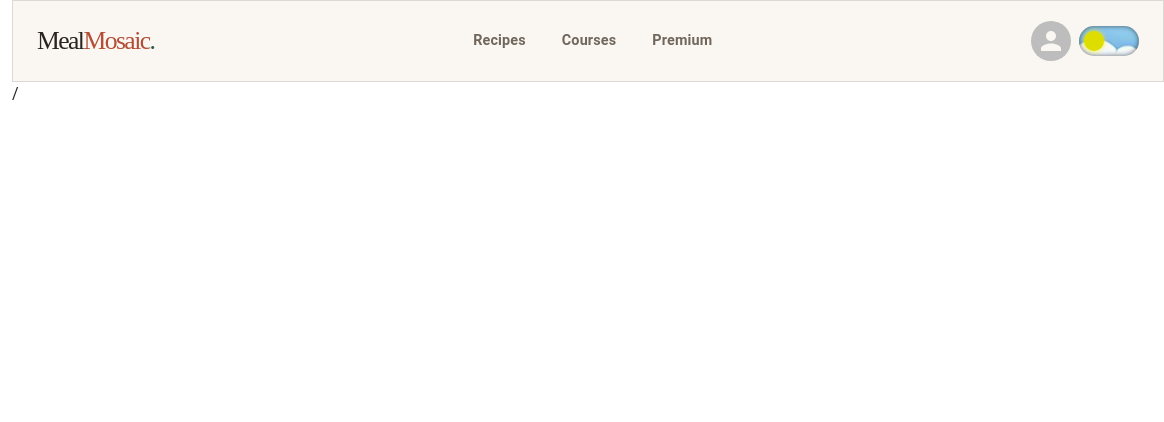
Test: profile dropdown exposes entitled actions and navigates to favorites
Click the button with test id "PersonIcon": (1051, 41) x1=1031 y1=21 x2=1071 y2=61
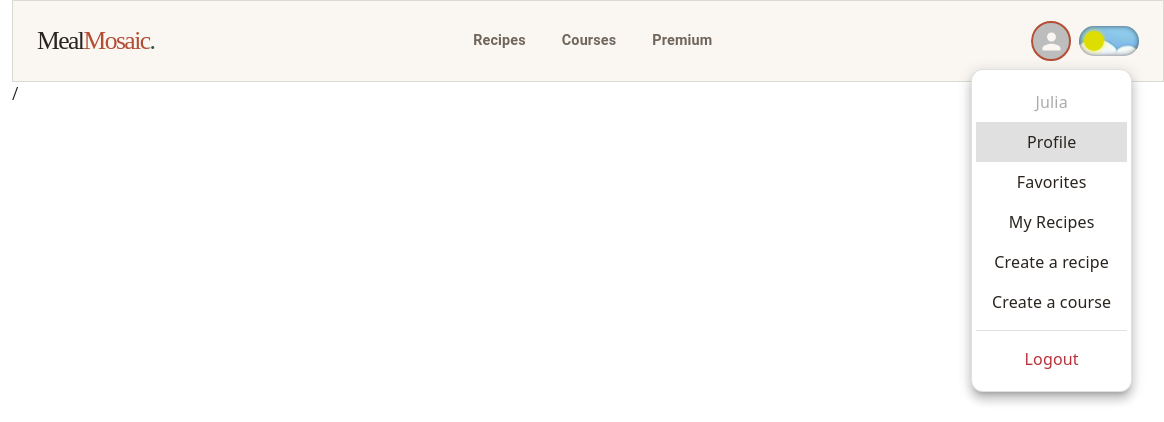
Expected: the menu item "Create a recipe" is shown, x1=994 y1=251 x2=1109 y2=273
Expected: the menu item "Create a course" is shown, x1=992 y1=291 x2=1111 y2=313
Click the menu item "Favorites": (1052, 182) x1=1017 y1=171 x2=1086 y2=193
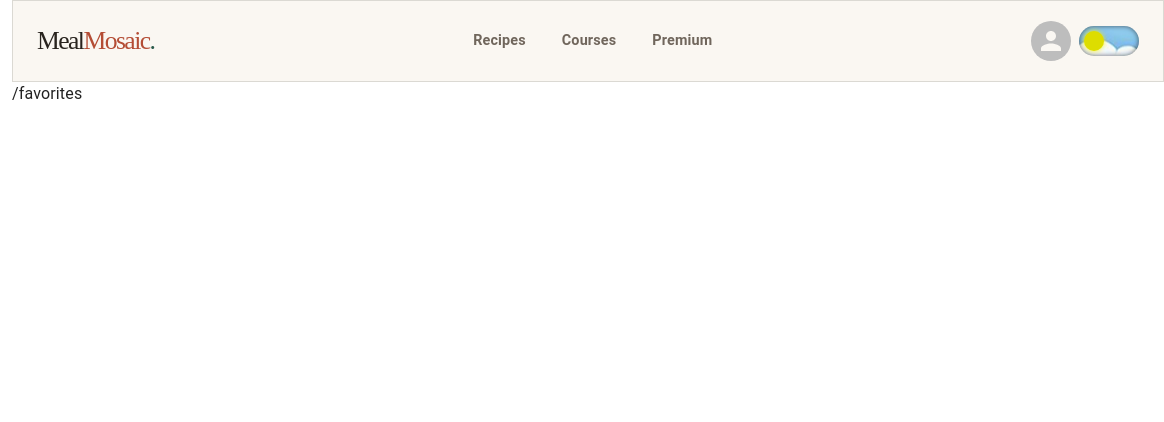
Expected: the text with test id "location" reads "/favorites", x1=12 y1=84 x2=82 y2=103
Expected: the menu is gone
